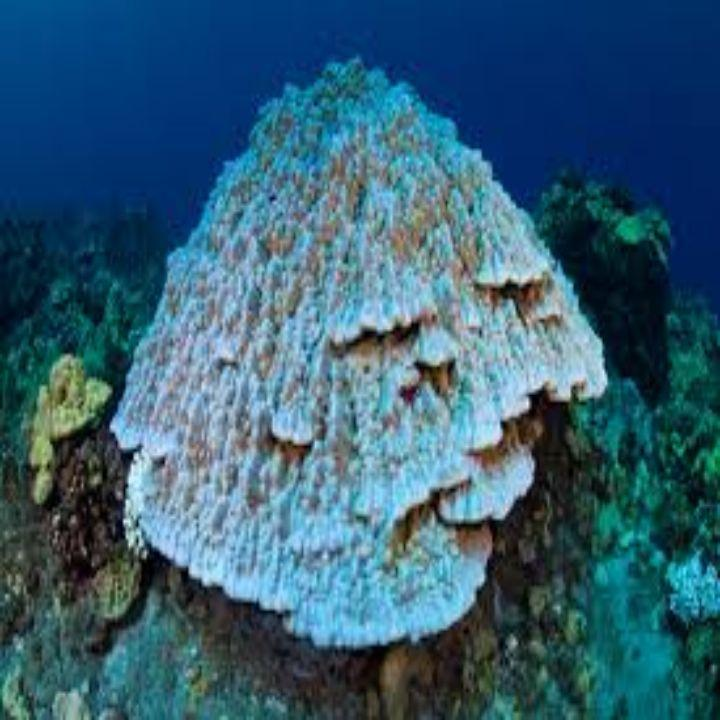Bleached-disease: (33, 26, 687, 710)
